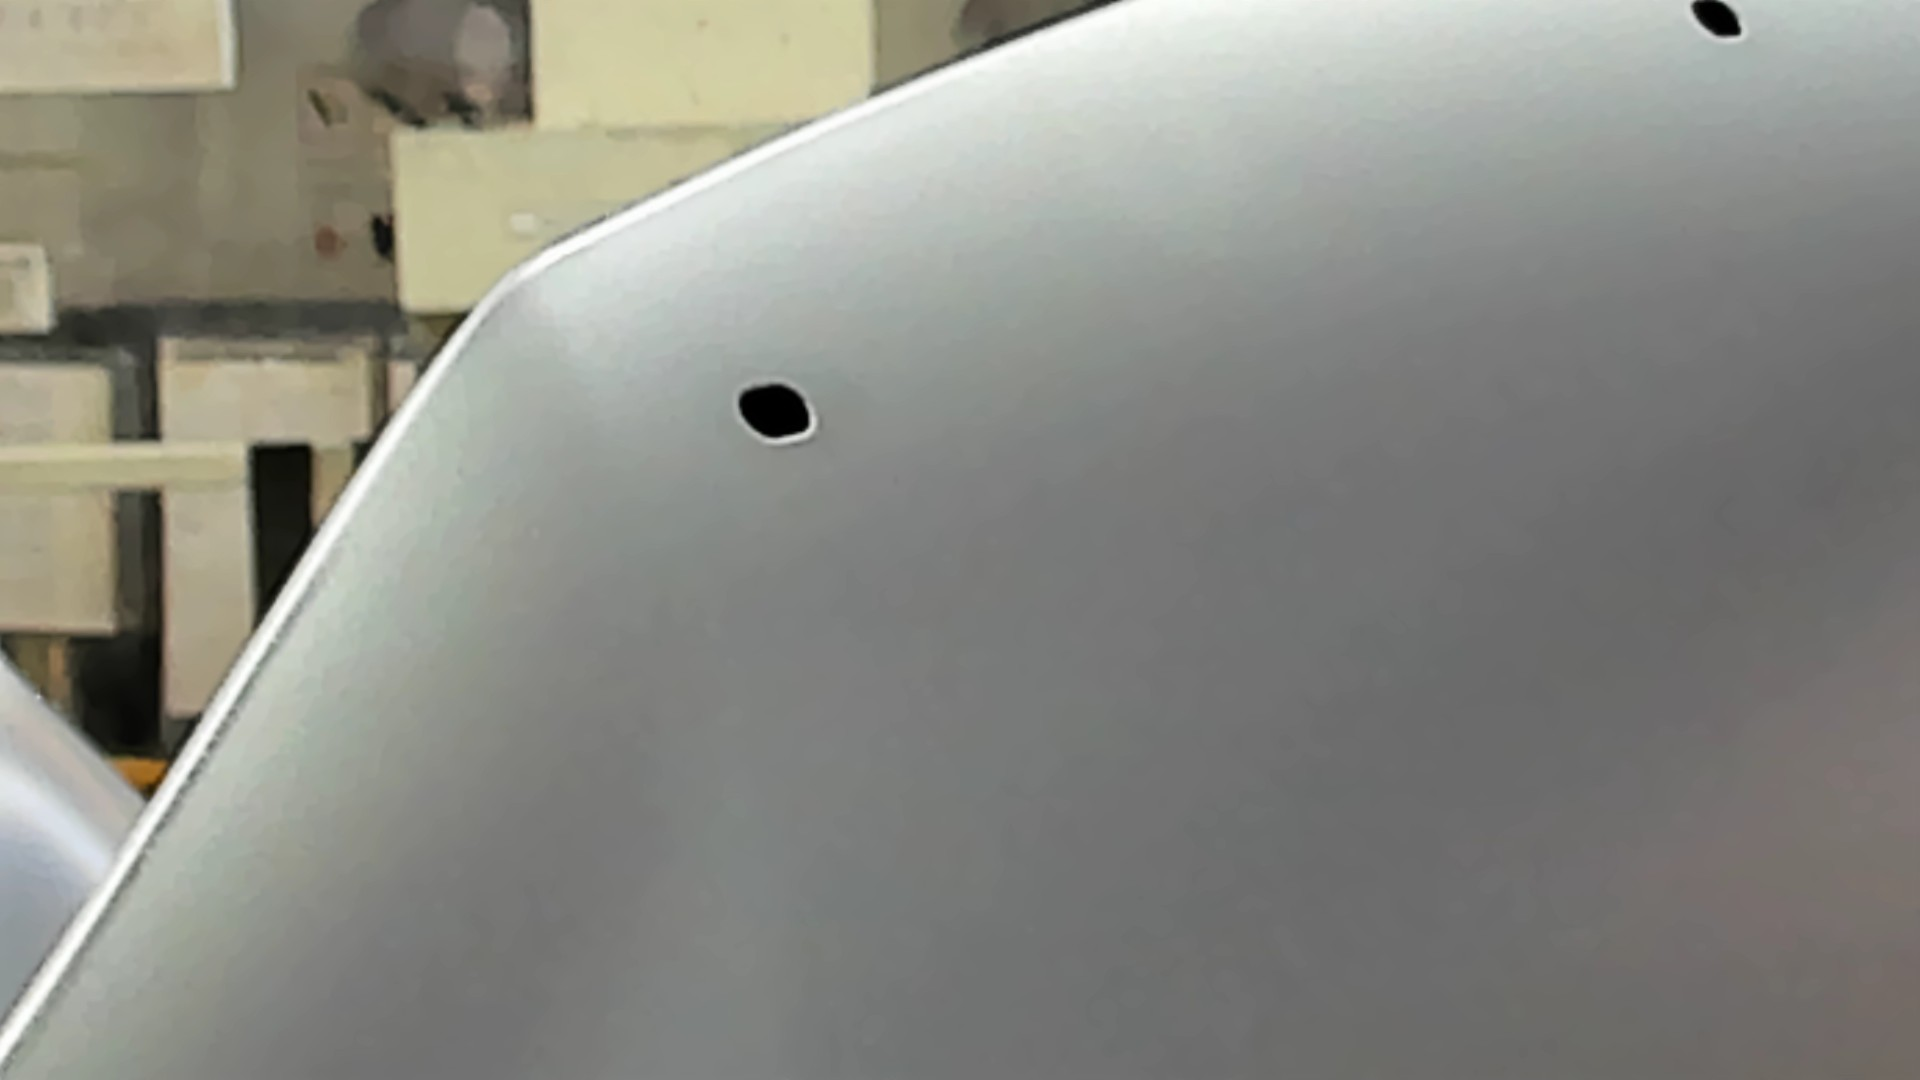amorfo: (733, 378, 822, 447), (1687, 1, 1753, 47)
